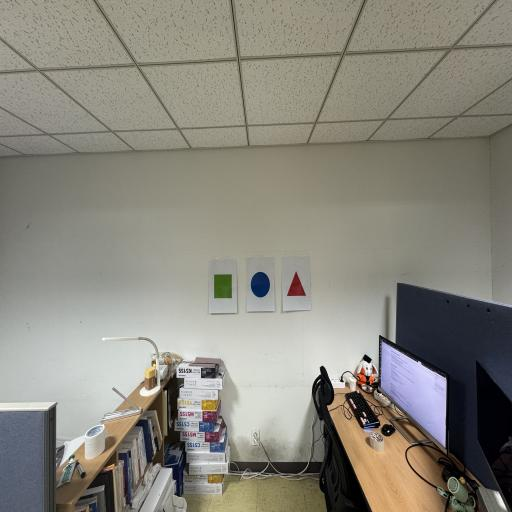blue_circle: (249, 272, 270, 298)
green_rectangle: (214, 274, 232, 298)
red_triangle: (287, 271, 306, 296)
